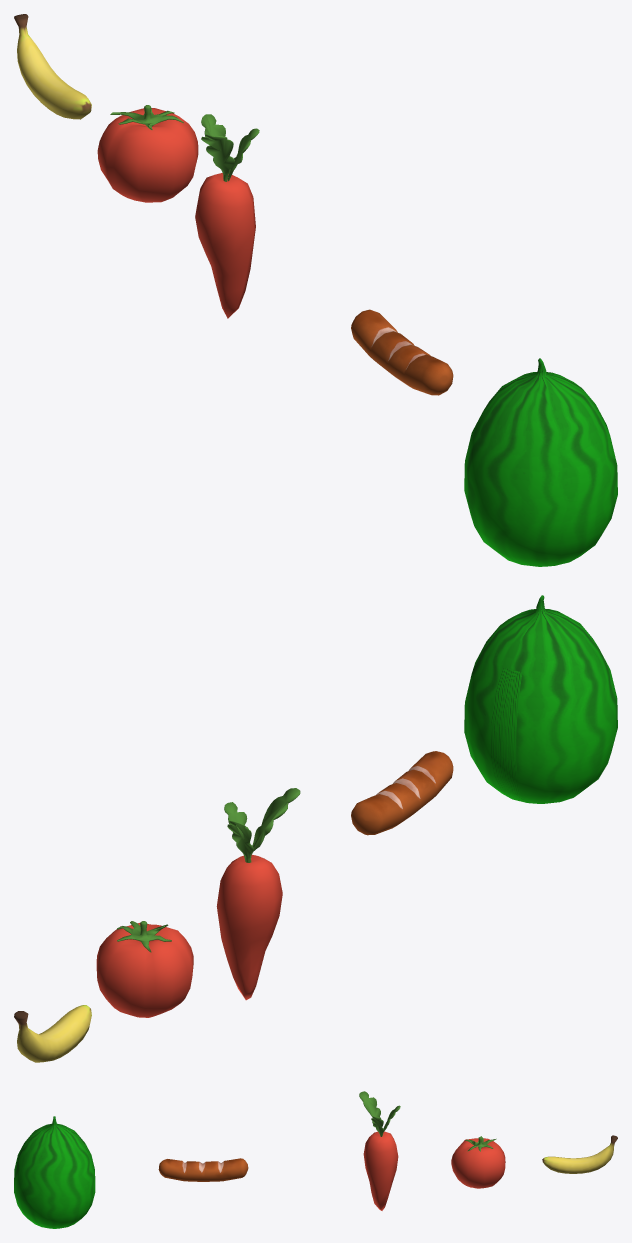
The model's file is 5Fruit.fbx.
The picture shows the model from 3 angles, top to bottom: view 1: azimuth 30°, elevation 25°; view 2: azimuth 150°, elevation 25°; view 3: azimuth 270°, elevation 25°; orthographic projection. The views are drawn at different scales.
Visible parts, largest first — view 1: Cucumber, Carrot, Tomato, Sausage, Banana; view 2: Cucumber, Carrot, Tomato, Sausage, Banana; view 3: Cucumber, Carrot, Tomato, Sausage, Banana.
Part boxes in pixels (box(x1,y1,x2,y2)): Cucumber: box(464, 358, 617, 566); Carrot: box(195, 114, 259, 318); Tomato: box(97, 105, 198, 202); Sausage: box(351, 309, 453, 395); Banana: box(14, 14, 91, 119); Cucumber: box(464, 595, 617, 803); Carrot: box(216, 788, 300, 1000); Tomato: box(96, 921, 193, 1017); Sausage: box(351, 751, 453, 835); Banana: box(14, 1005, 91, 1062); Cucumber: box(14, 1116, 95, 1228); Carrot: box(359, 1091, 400, 1210); Tomato: box(451, 1136, 505, 1188); Sausage: box(158, 1158, 248, 1181); Banana: box(542, 1135, 617, 1173).
Size of the model in its own units: 28.56 by 47.35 by 212.
